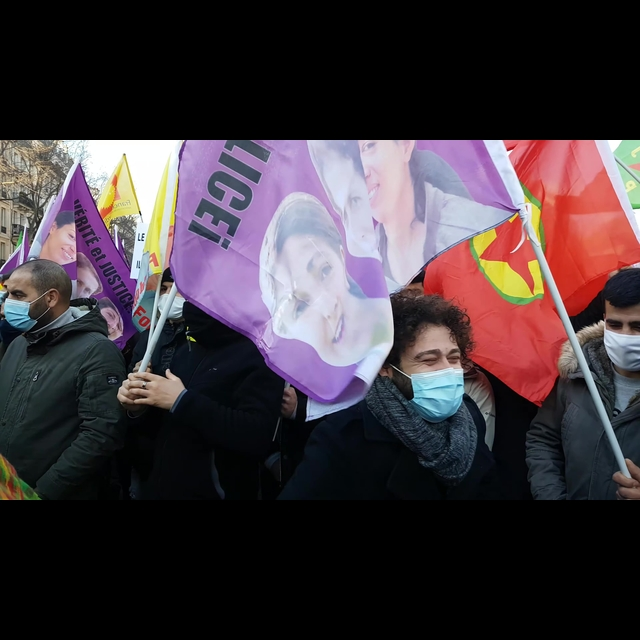PKK: (468, 172, 575, 320)
